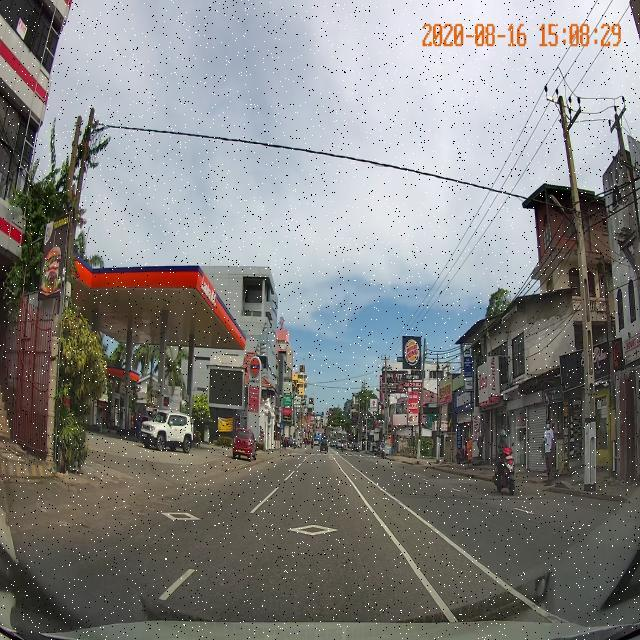diamond: (204, 490, 408, 551)
